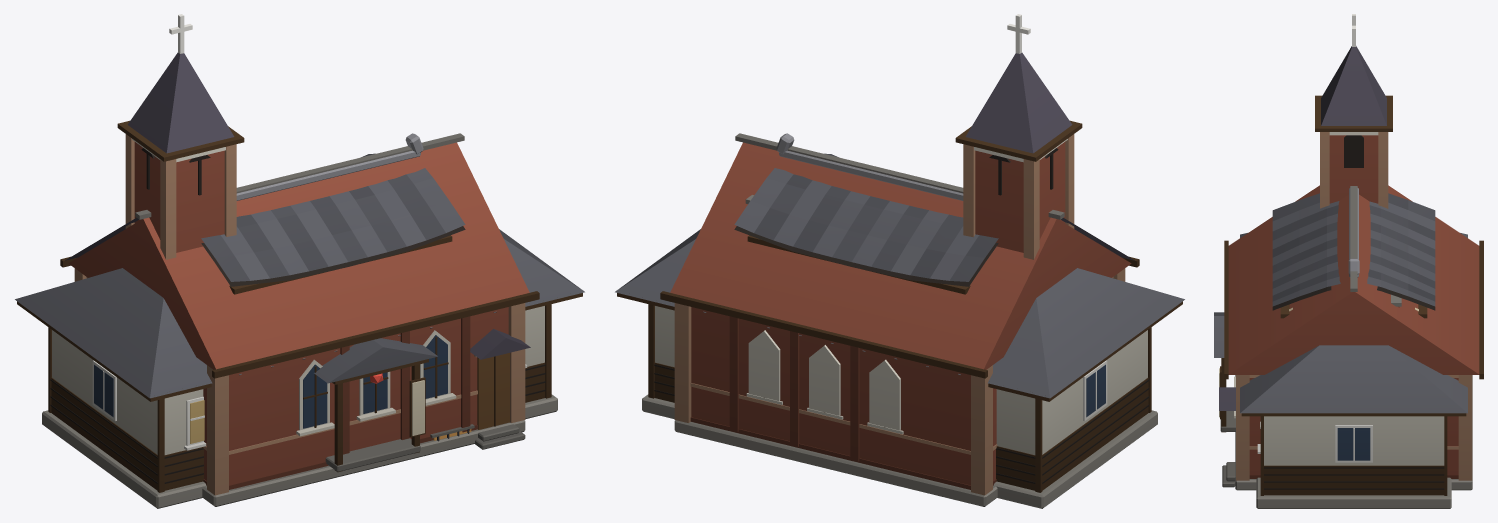
The model's file is manse.glb.
The picture shows the model from 3 angles, left to right: view 1: azimuth 30°, elevation 25°; view 2: azimuth 150°, elevation 25°; view 3: azimuth 270°, elevation 25°; orthographic projection. The views are drawn at different scales.
Parts seen in each view (by area): view 1: mn_church, mn_police, mn_store; view 2: mn_church, mn_police, mn_store; view 3: mn_church, mn_police, mn_store.
Part boxes in pixels (bbox=[...]): mn_church: bbox=[60, 14, 539, 506]; mn_police: bbox=[15, 229, 584, 508]; mn_store: bbox=[201, 133, 465, 294]; mn_church: bbox=[660, 14, 1139, 506]; mn_police: bbox=[615, 195, 1184, 508]; mn_store: bbox=[734, 133, 998, 294]; mn_church: bbox=[1219, 14, 1483, 490]; mn_police: bbox=[1214, 233, 1467, 508]; mn_store: bbox=[1272, 188, 1435, 318].
Bounding box in the file's own units: 13 × 12.4 × 8.29.
